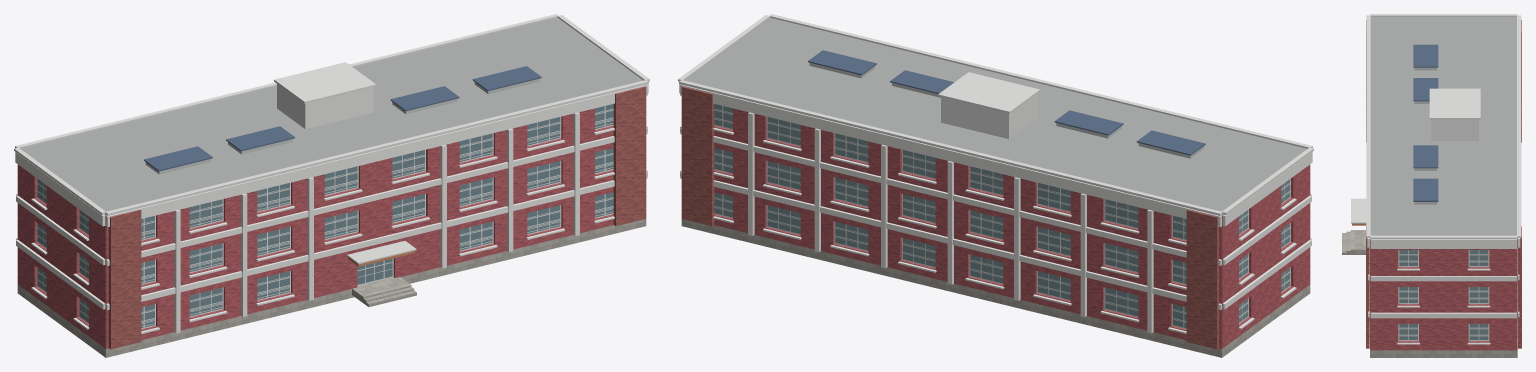
3 views of the same model, side by side, from view 1: azimuth 30°, elevation 25°; view 2: azimuth 150°, elevation 25°; view 3: azimuth 270°, elevation 25° (orthographic). The views are drawn at different scales.
Parts seen in each view (by area): view 1: electric__coralbrick, electric__roof, electric__band, electric__glass, electric__cap, electric__redbrick, electric__frame, electric__stone, electric__solar, electric__sill, electric__panel, electric__sideglass (+3 smaller); view 2: electric__coralbrick, electric__roof, electric__band, electric__sideglass, electric__cap, electric__redbrick, electric__frame, electric__stone, electric__solar, electric__sill, electric__panel, electric__steel; view 3: electric__roof, electric__coralbrick, electric__cap, electric__band, electric__solar, electric__sideglass, electric__stone, electric__frame, electric__redbrick, electric__panel, electric__sill, electric__stair-front (+2 smaller).
Part boxes in pixels (x1=…): electric__coralbrick: x1=17, y1=108, x2=613, y2=348; electric__roof: x1=21, y1=17, x2=643, y2=215; electric__band: x1=15, y1=84, x2=648, y2=333; electric__glass: x1=141, y1=104, x2=613, y2=328; electric__cap: x1=14, y1=14, x2=649, y2=264; electric__redbrick: x1=108, y1=86, x2=646, y2=349; electric__frame: x1=37, y1=106, x2=613, y2=329; electric__stone: x1=17, y1=219, x2=646, y2=357; electric__solar: x1=144, y1=66, x2=541, y2=171; electric__sill: x1=31, y1=127, x2=614, y2=334; electric__panel: x1=277, y1=84, x2=373, y2=129; electric__sideglass: x1=37, y1=179, x2=88, y2=322; electric__coralbrick: x1=714, y1=108, x2=1310, y2=348; electric__roof: x1=684, y1=17, x2=1306, y2=215; electric__band: x1=679, y1=84, x2=1312, y2=333; electric__sideglass: x1=714, y1=104, x2=1290, y2=328; electric__cap: x1=678, y1=14, x2=1313, y2=215; electric__redbrick: x1=681, y1=86, x2=1219, y2=349; electric__frame: x1=714, y1=106, x2=1290, y2=329; electric__stone: x1=681, y1=219, x2=1310, y2=357; electric__solar: x1=808, y1=50, x2=1205, y2=155; electric__sill: x1=713, y1=127, x2=1296, y2=334; electric__panel: x1=941, y1=93, x2=1037, y2=138; electric__steel: x1=809, y1=63, x2=1203, y2=158; electric__roof: x1=1370, y1=17, x2=1517, y2=238; electric__coralbrick: x1=1370, y1=239, x2=1517, y2=350; electric__cap: x1=1351, y1=14, x2=1521, y2=239; electric__band: x1=1367, y1=238, x2=1520, y2=320; electric__solar: x1=1413, y1=44, x2=1438, y2=201; electric__sideglass: x1=1399, y1=250, x2=1488, y2=339; electric__stone: x1=1370, y1=350, x2=1517, y2=357; electric__frame: x1=1398, y1=250, x2=1489, y2=340; electric__redbrick: x1=1366, y1=20, x2=1521, y2=348; electric__panel: x1=1431, y1=119, x2=1478, y2=140; electric__sill: x1=1369, y1=248, x2=1517, y2=344; electric__stair-front: x1=1342, y1=230, x2=1354, y2=254.
Bounding box in the file's own units: 46.66 × 14.06 × 15.85.
15 materials, 3 textured.
